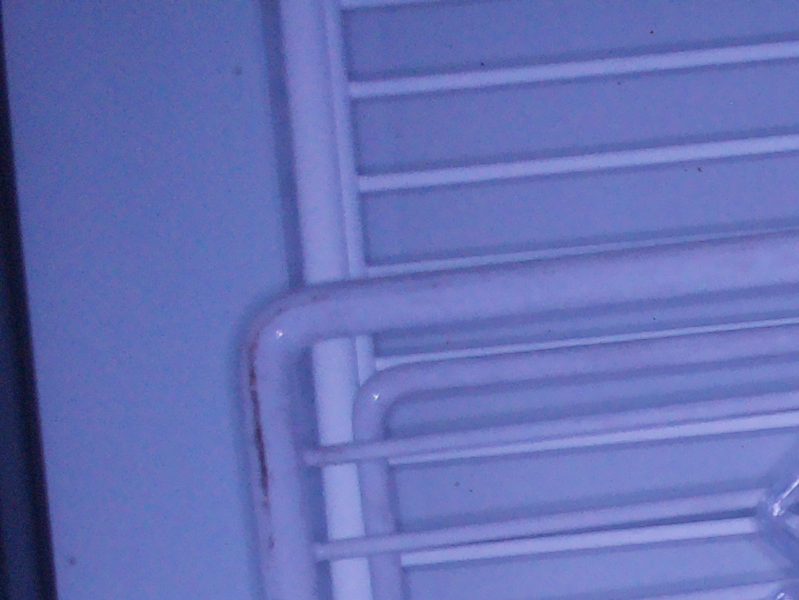plate: (754, 466, 799, 560)
